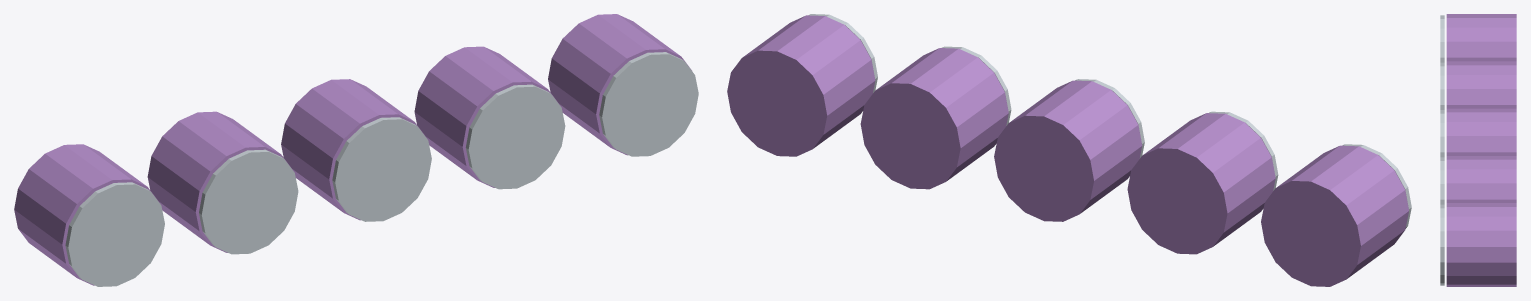
File: 144_L110_OutputCapacitorBank.glb
3 renders of one model, left to right at view 1: azimuth 30°, elevation 25°; view 2: azimuth 150°, elevation 25°; view 3: azimuth 270°, elevation 25°, orthographic. The views are drawn at different scales.
Visible parts, largest first — view 1: L110_OutputCapacitorBank_ALUMINUM, L110_OutputCapacitorBank_PURPLE; view 2: L110_OutputCapacitorBank_PURPLE, L110_OutputCapacitorBank_ALUMINUM; view 3: L110_OutputCapacitorBank_PURPLE, L110_OutputCapacitorBank_ALUMINUM.
Boxes of the visible parts, box(x1,y1,x2,y2) form: L110_OutputCapacitorBank_ALUMINUM: box(65, 52, 698, 286); L110_OutputCapacitorBank_PURPLE: box(14, 14, 691, 285); L110_OutputCapacitorBank_PURPLE: box(727, 15, 1408, 286); L110_OutputCapacitorBank_ALUMINUM: box(809, 14, 1411, 228); L110_OutputCapacitorBank_PURPLE: box(1446, 14, 1516, 286); L110_OutputCapacitorBank_ALUMINUM: box(1440, 15, 1444, 285).
Bounding box in the file's own units: 38 × 6 × 5.45.
